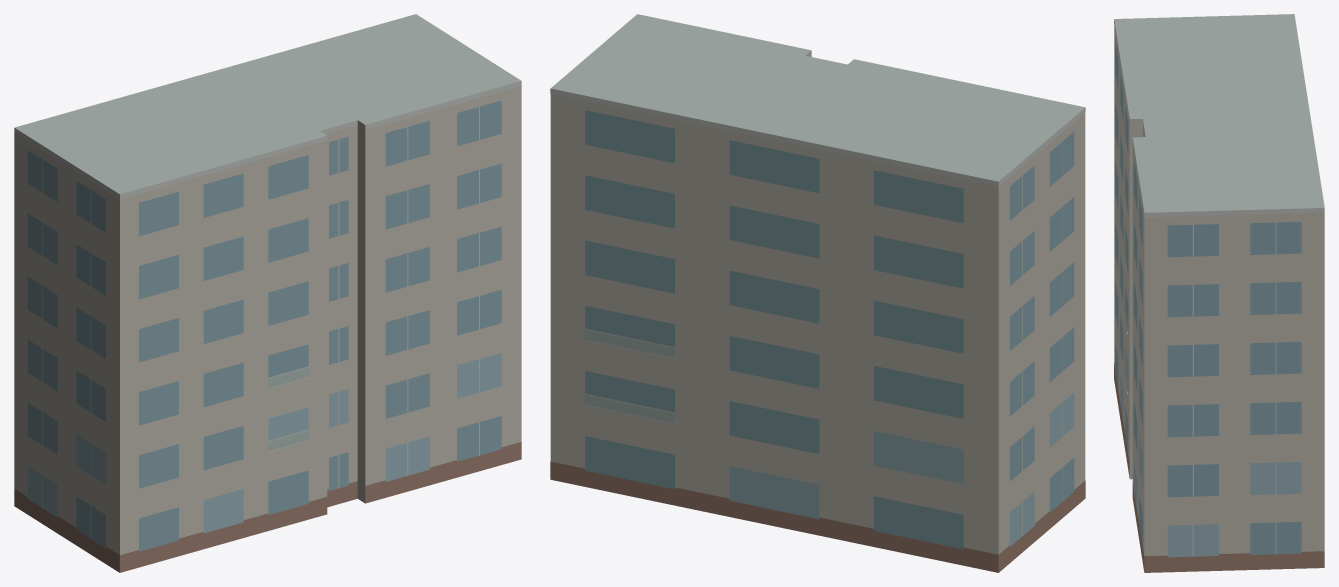
File: survey-upis-32744654.glb
3 views of the same model, side by side, from view 1: azimuth 30°, elevation 25°; view 2: azimuth 150°, elevation 25°; view 3: azimuth 270°, elevation 25° (orthographic). The views are drawn at different scales.
Parts seen in each view (by area): view 1: survey-upis-32744654.tmp; view 2: survey-upis-32744654.tmp; view 3: survey-upis-32744654.tmp.
Part boxes in pixels (box(x1,y1,x2,y2)): survey-upis-32744654.tmp: box(14, 14, 521, 572); survey-upis-32744654.tmp: box(550, 14, 1085, 572); survey-upis-32744654.tmp: box(1114, 14, 1324, 572).
Size of the model in its own units: 21.68 by 18.3 by 9.71.
